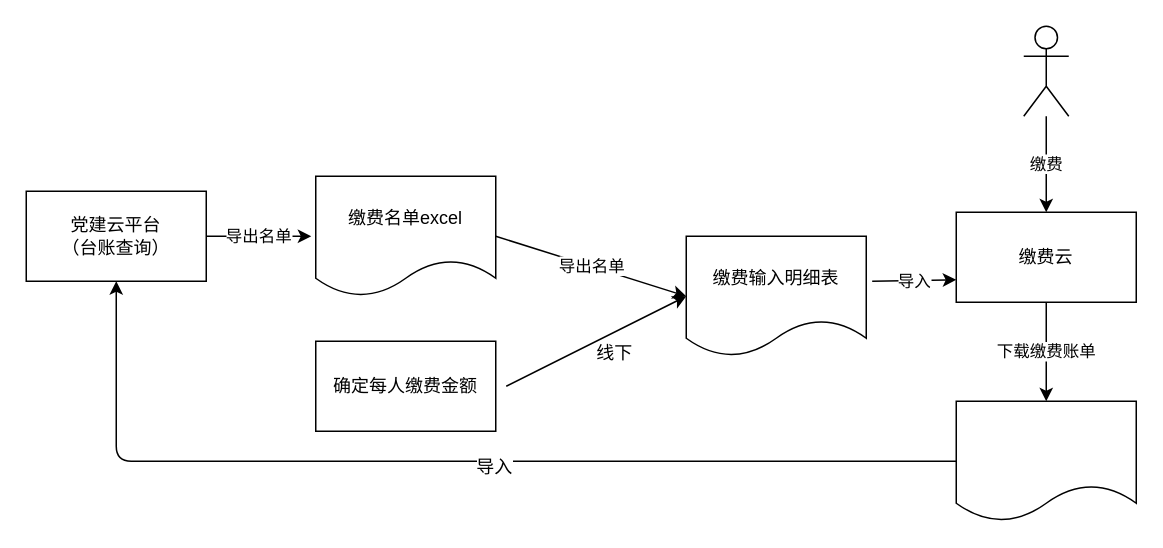
This 1163x548 diagram has some shape labels left out. Here are the shapes that lost their labels. From the top down, the centre of each, then its label:
[1045,70]: 用户
[1045,460]: 缴费账单明细表
